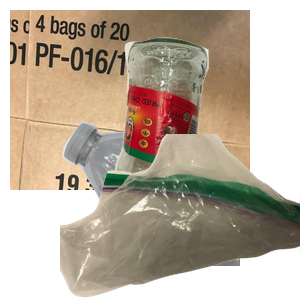cardboard: (10, 10, 250, 190)
glass: (112, 35, 300, 215)
plastic: (60, 120, 300, 300)
trash: (60, 134, 300, 300)
